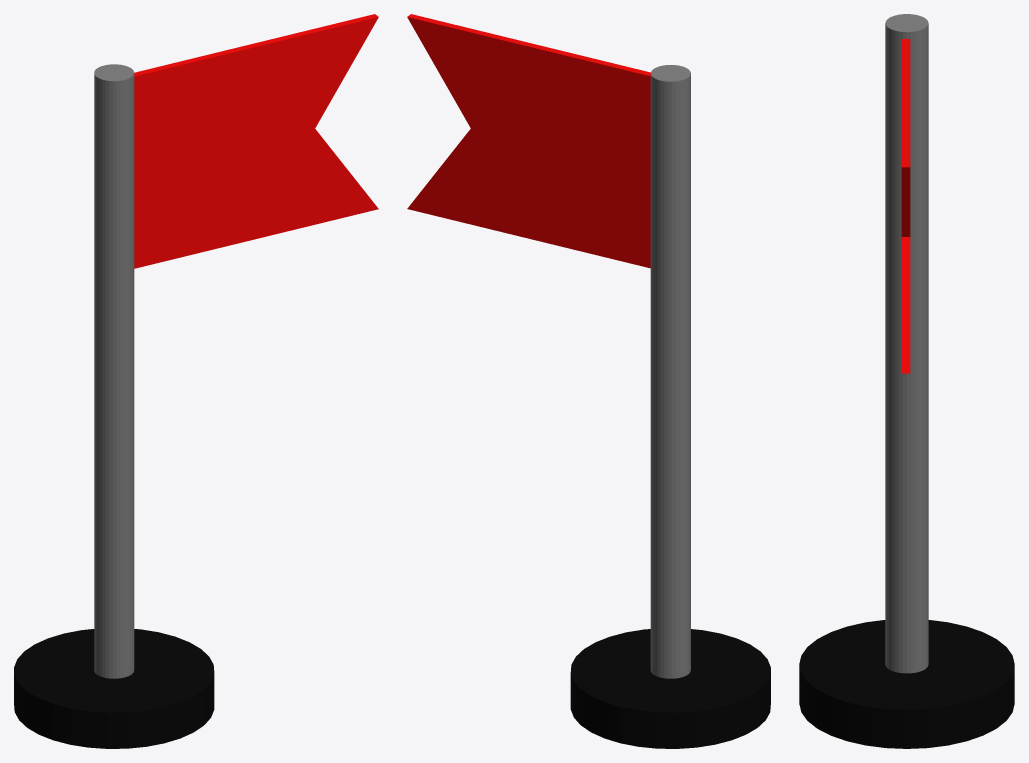
The model's file is Flag_red.fbx.
3 renders of one model, left to right at view 1: azimuth 30°, elevation 25°; view 2: azimuth 150°, elevation 25°; view 3: azimuth 270°, elevation 25°, orthographic. The views are drawn at different scales.
Parts seen in each view (by area): view 1: Cube.001, Cylinder, Cylinder.001; view 2: Cube.001, Cylinder, Cylinder.001; view 3: Cylinder, Cylinder.001, Cube.001.
Part boxes in pixels (bbox=[...]): Cube.001: bbox=[134, 14, 378, 268]; Cylinder: bbox=[94, 64, 134, 678]; Cylinder.001: bbox=[14, 629, 214, 748]; Cube.001: bbox=[407, 14, 650, 268]; Cylinder: bbox=[650, 65, 690, 678]; Cylinder.001: bbox=[570, 629, 770, 748]; Cylinder: bbox=[885, 14, 928, 673]; Cylinder.001: bbox=[799, 620, 1014, 748]; Cube.001: bbox=[901, 39, 910, 373].
Size of the model in its own units: 201 by 348 by 100.
